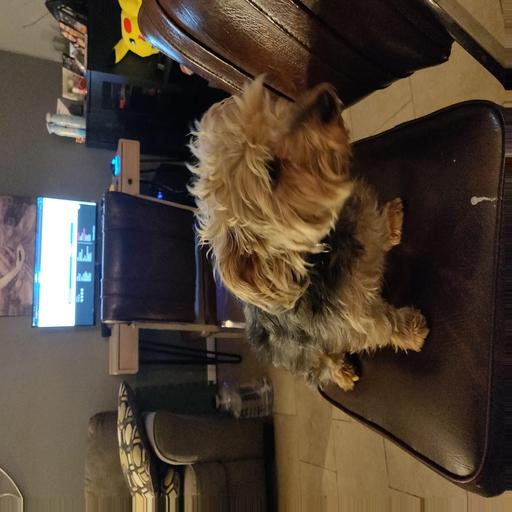dog: (145, 77, 438, 370)
